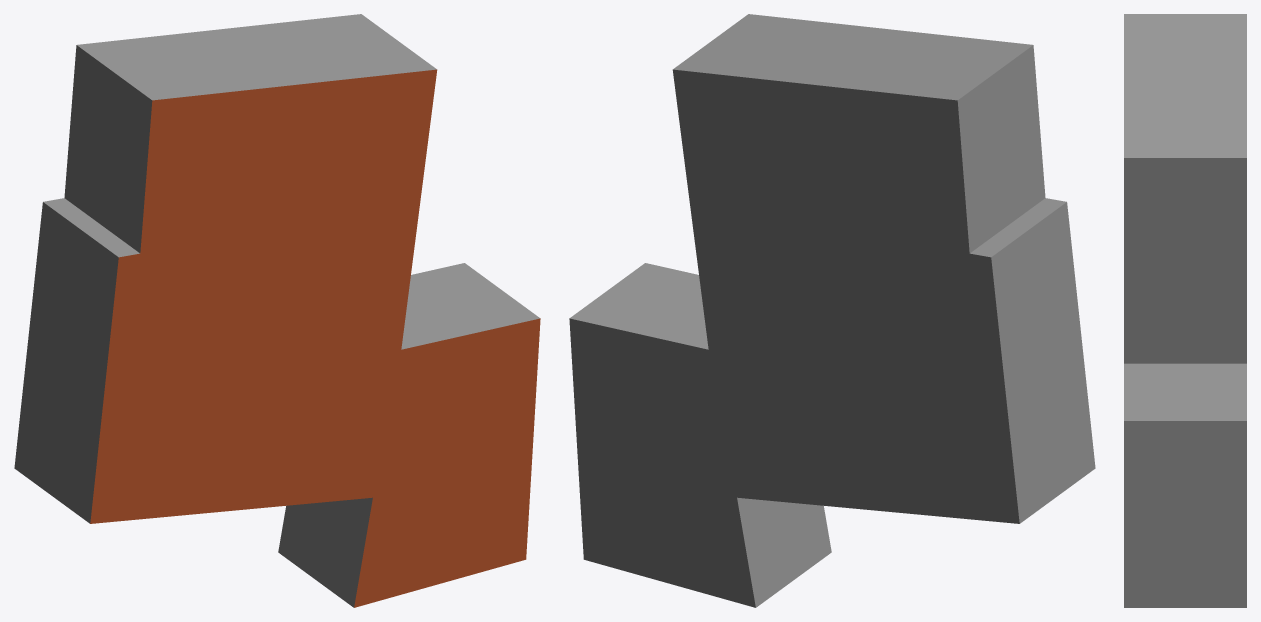
The model's file is construction_0716_assumed_A_Casa_h6m.obj.
3 renders of one model, left to right at view 1: azimuth 30°, elevation 25°; view 2: azimuth 150°, elevation 25°; view 3: azimuth 270°, elevation 25°, orthographic. The views are drawn at different scales.
Visible parts, largest first — view 1: construction_0716_assumed_A_Casa; view 2: construction_0716_assumed_A_Casa; view 3: construction_0716_assumed_A_Casa.
Part boxes in pixels (x1,y1,x2,y2): construction_0716_assumed_A_Casa: (14, 14, 540, 607); construction_0716_assumed_A_Casa: (569, 14, 1095, 607); construction_0716_assumed_A_Casa: (1124, 14, 1246, 607).
Size of the model in its own units: 20.56 by 24.29 by 6.
